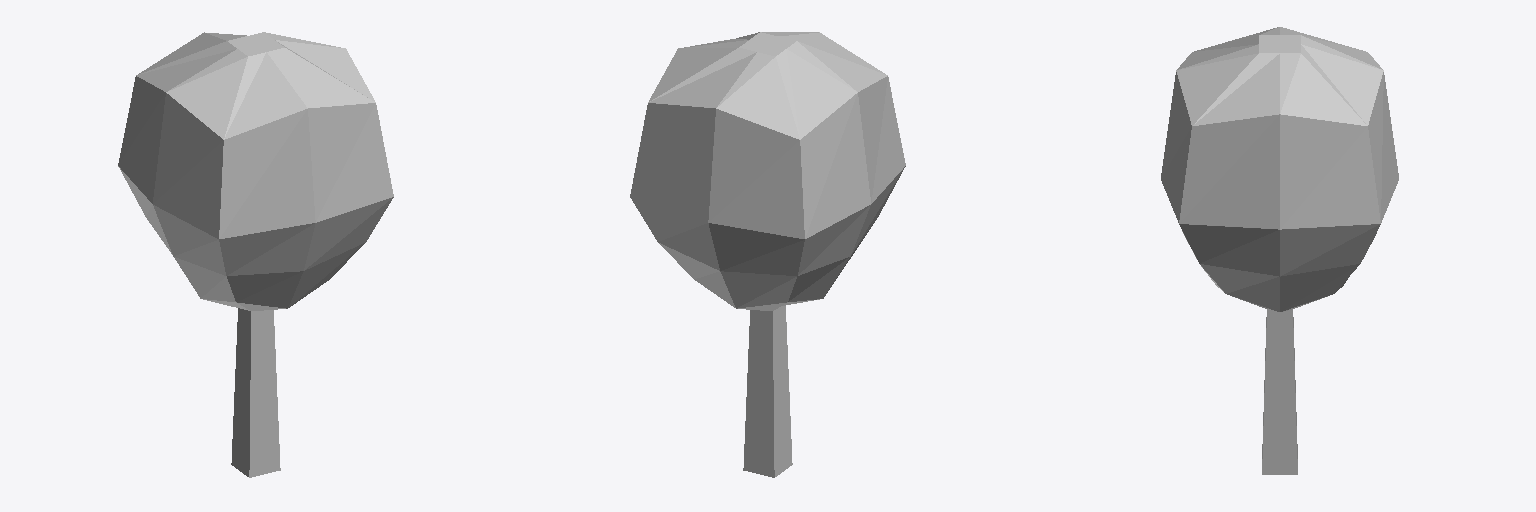
Rendered from round_tree.obj.
The picture shows the model from 3 angles: view 1: azimuth 30°, elevation 25°; view 2: azimuth 150°, elevation 25°; view 3: azimuth 270°, elevation 25°; orthographic projection.
Parts seen in each view (by area): view 1: Round_Tree_Model; view 2: Round_Tree_Model; view 3: Round_Tree_Model.
Part boxes in pixels (x1,y1,x2,y2): Round_Tree_Model: (118, 32, 393, 477); Round_Tree_Model: (630, 32, 905, 477); Round_Tree_Model: (1161, 27, 1398, 474).
Size of the model in its own units: 5.78 by 11.32 by 5.78.